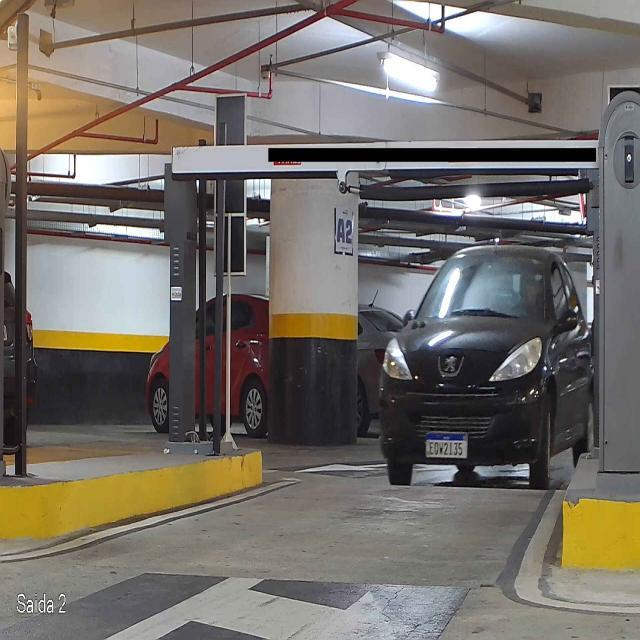mercosul_plate: (422, 429, 472, 460)
